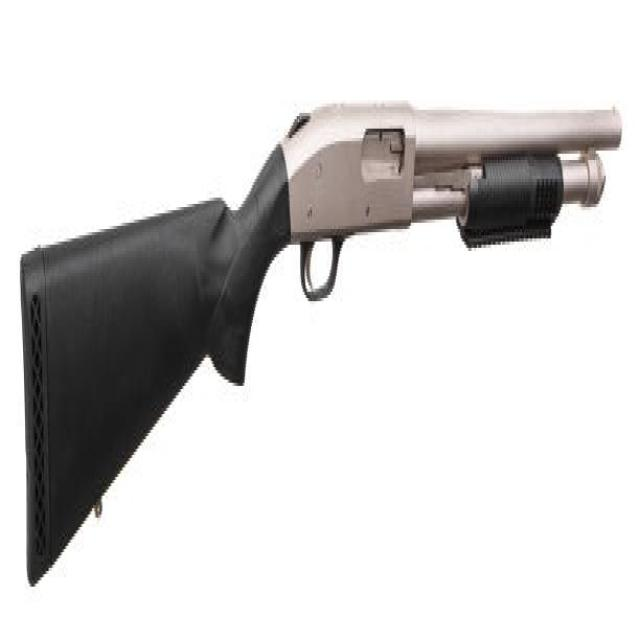rifle: (13, 73, 623, 595)
